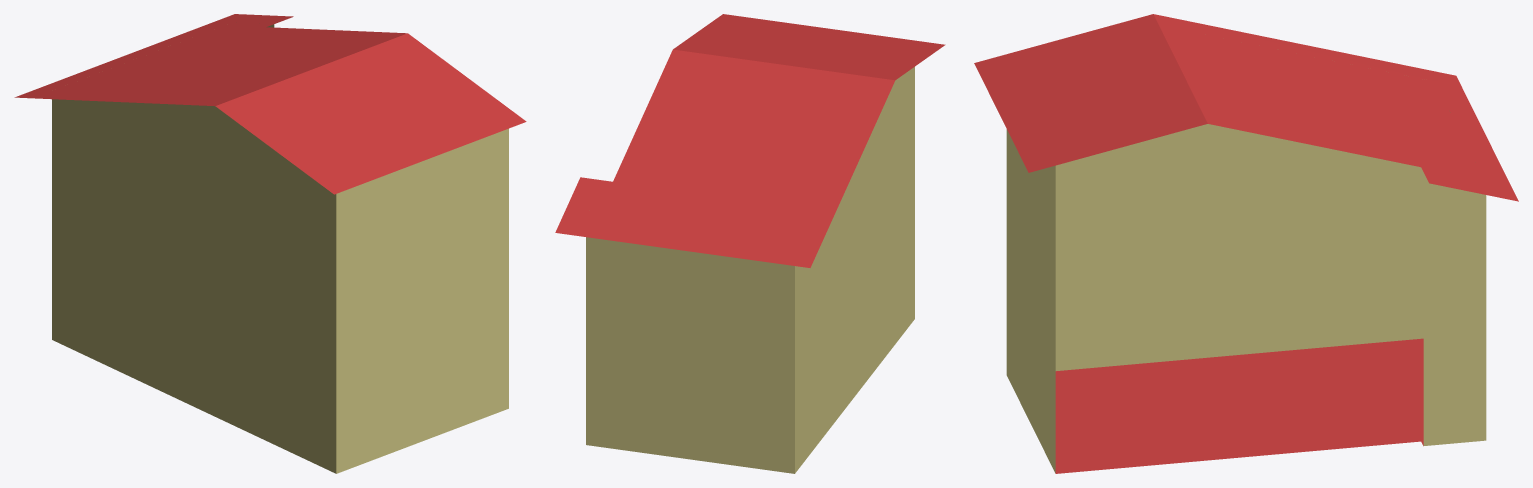
3 renders of one model, left to right at view 1: azimuth 30°, elevation 25°; view 2: azimuth 150°, elevation 25°; view 3: azimuth 270°, elevation 25°, orthographic. The views are drawn at different scales.
Size of the model in its own units: 6.54 by 9.86 by 6.72.
